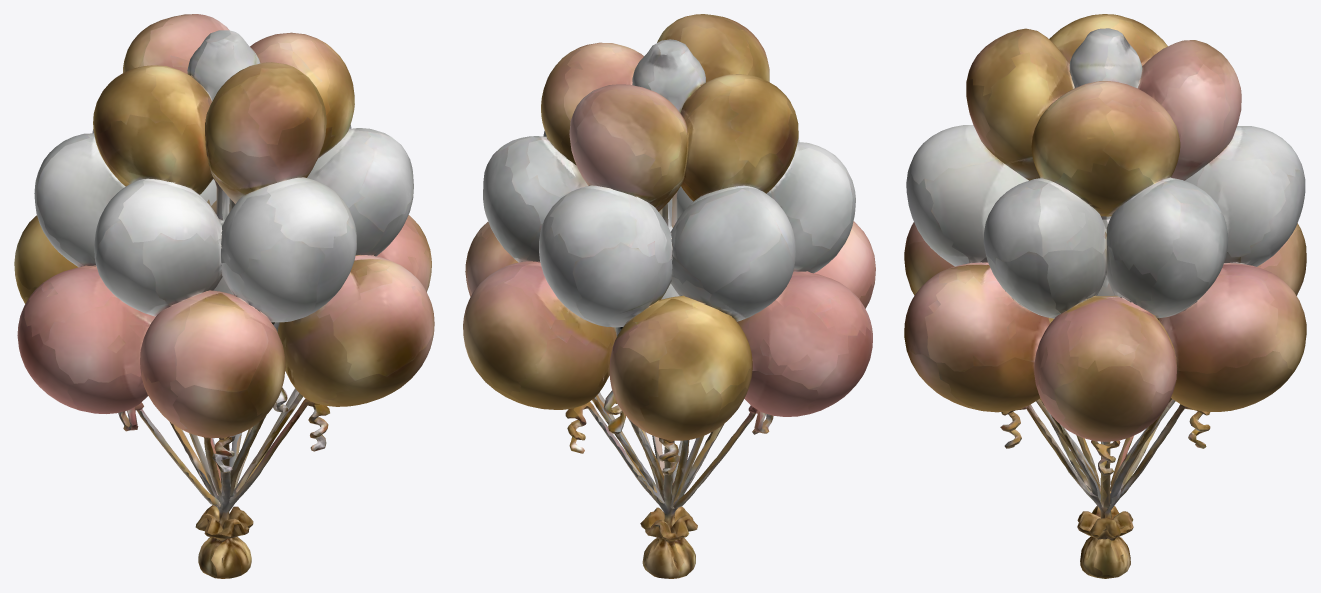
Rendered from aholo-20261119-balloon-cluster.glb.
3 renders of one model, left to right at view 1: azimuth 30°, elevation 25°; view 2: azimuth 150°, elevation 25°; view 3: azimuth 270°, elevation 25°, orthographic. The views are drawn at different scales.
Visible parts, largest first — view 1: geometry_0; view 2: geometry_0; view 3: geometry_0.
Part boxes in pixels (x1,y1,x2,y2): geometry_0: (14,14,434,578); geometry_0: (463,14,875,578); geometry_0: (904,14,1306,578).
Size of the model in its own units: 0.4633 by 0.6 by 0.4065.
Materials: 1 (1 with a texture image).
